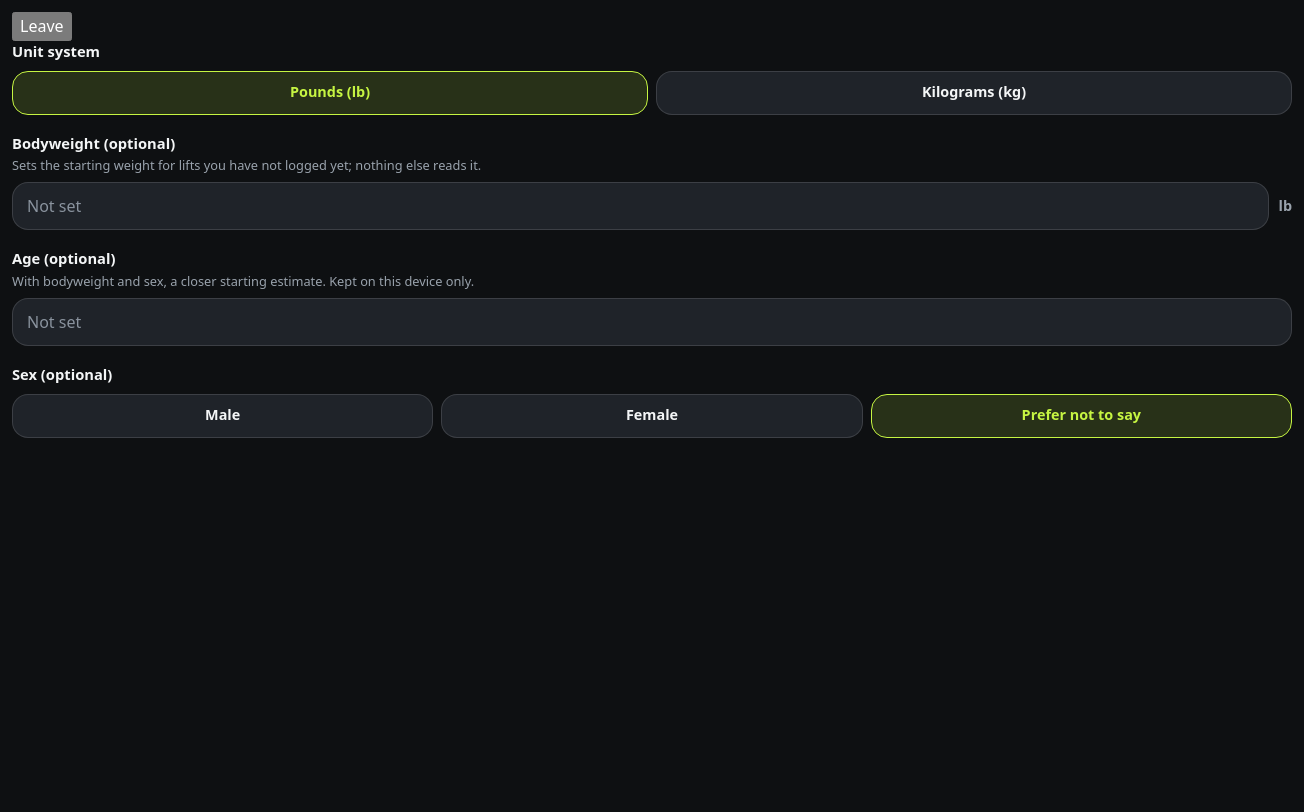
Test case: UnitsEditor after the review of item 40 › lets a held number in with the units that make it plausible: 55 typed in lb, then kg
Type "55" into the number field labelled "Bodyweight (optional)". click: x=640, y=206
box: [12,182,1268,230]
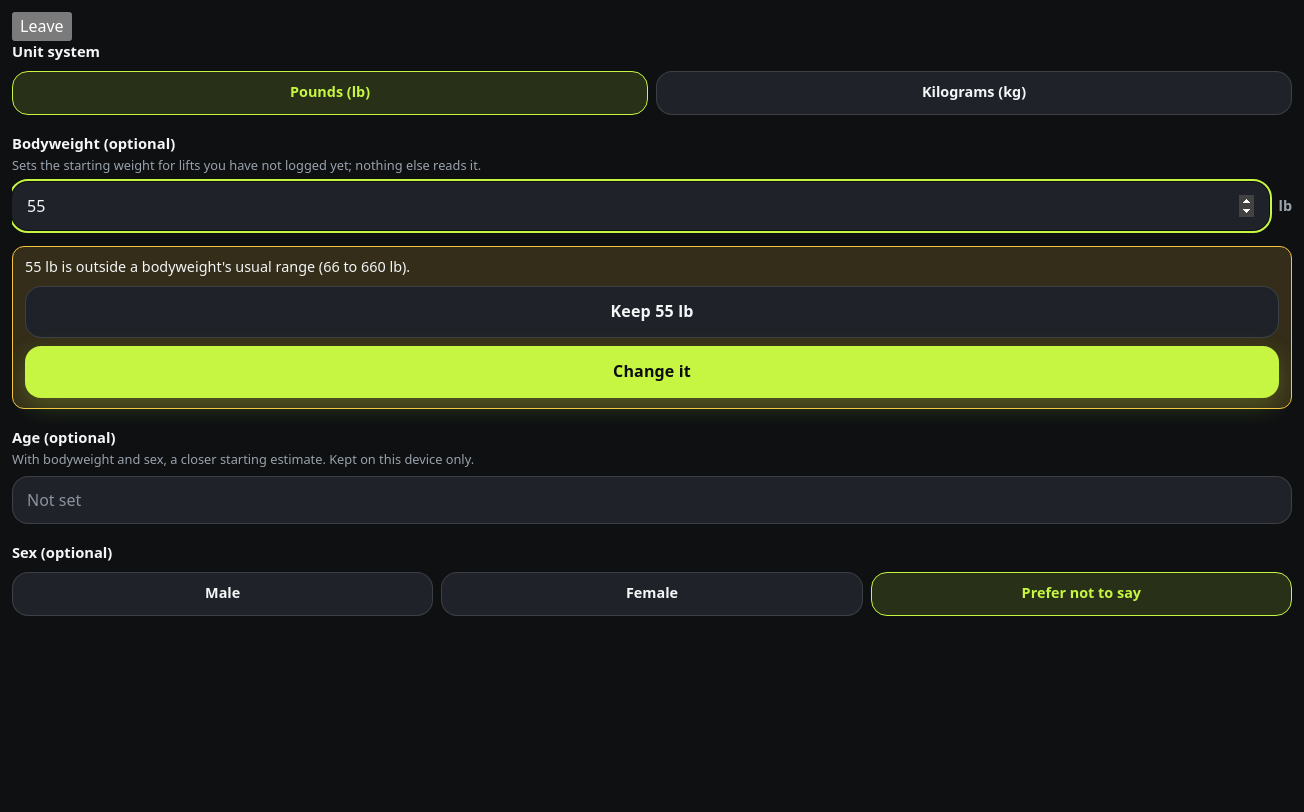
expect the message reads "55 lb is outside a bodyweight's usual range (66 to 660 lb).": met, box [25,257,410,276]
Click the radio button labelled "Kilograms (kg)". click: x=974, y=92
box: [656,70,1292,114]
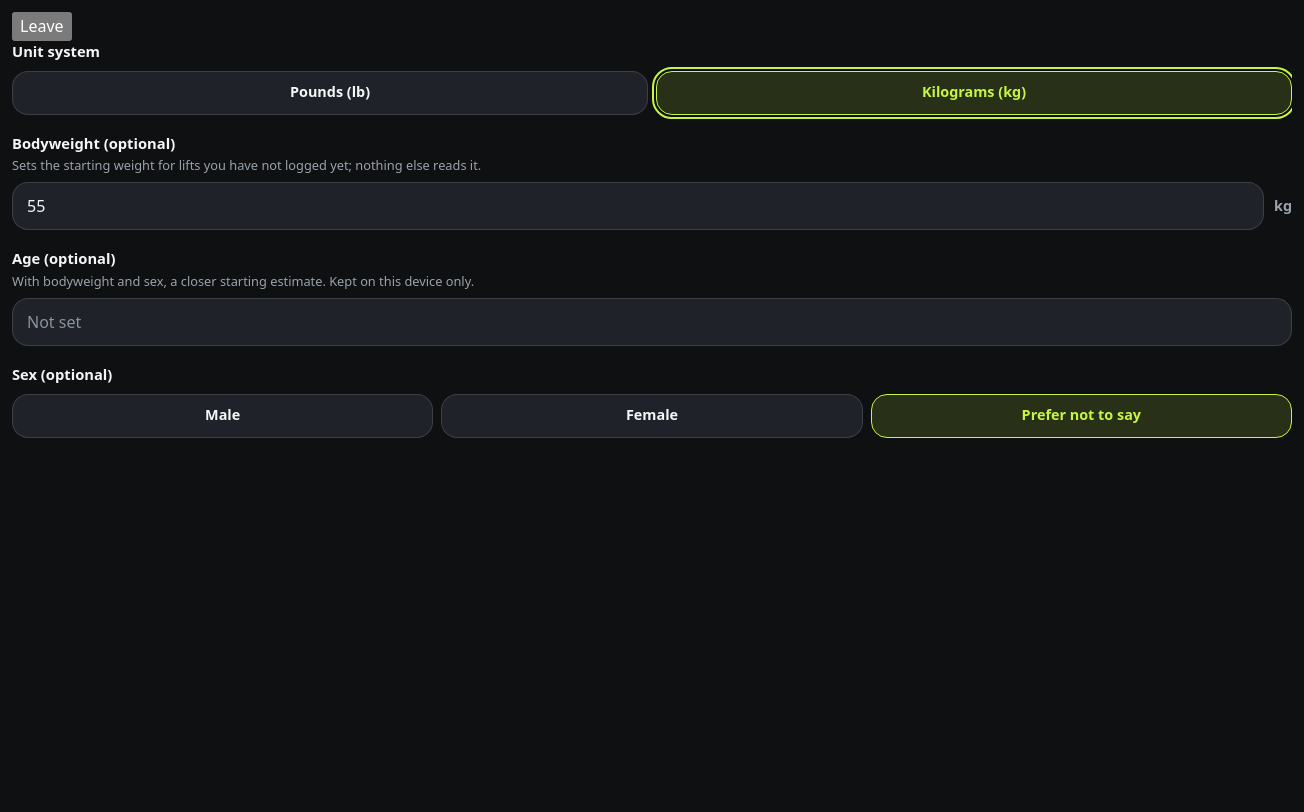
expect the element with test id "slip-question" is gone: met
